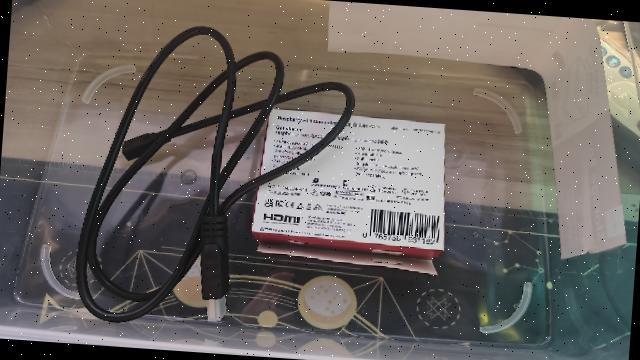hdmi_cable: (71, 17, 359, 337)
rpi_box: (247, 105, 454, 271)
